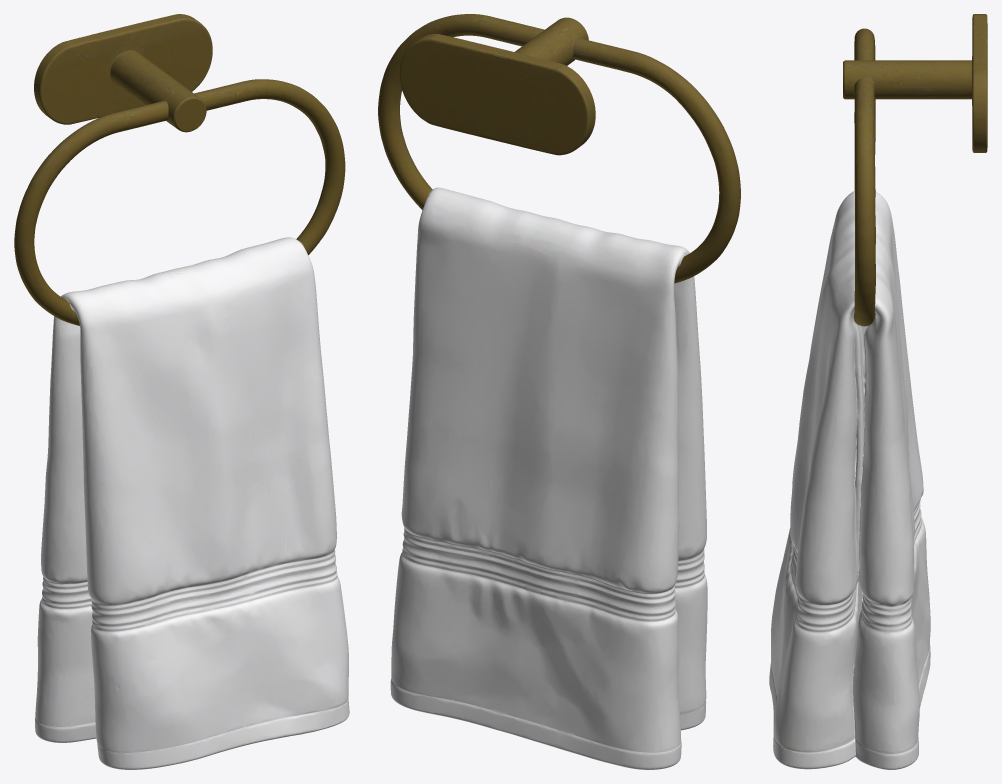
File: oslen-magic-sticker-towel-ring-holder-for-bathroom-self-adhe.glb
3 renders of one model, left to right at view 1: azimuth 30°, elevation 25°; view 2: azimuth 150°, elevation 25°; view 3: azimuth 270°, elevation 25°, orthographic. The views are drawn at different scales.
Size of the model in its own units: 1 by 1.9 by 0.5699.
Materials: 1 (1 with a texture image).
